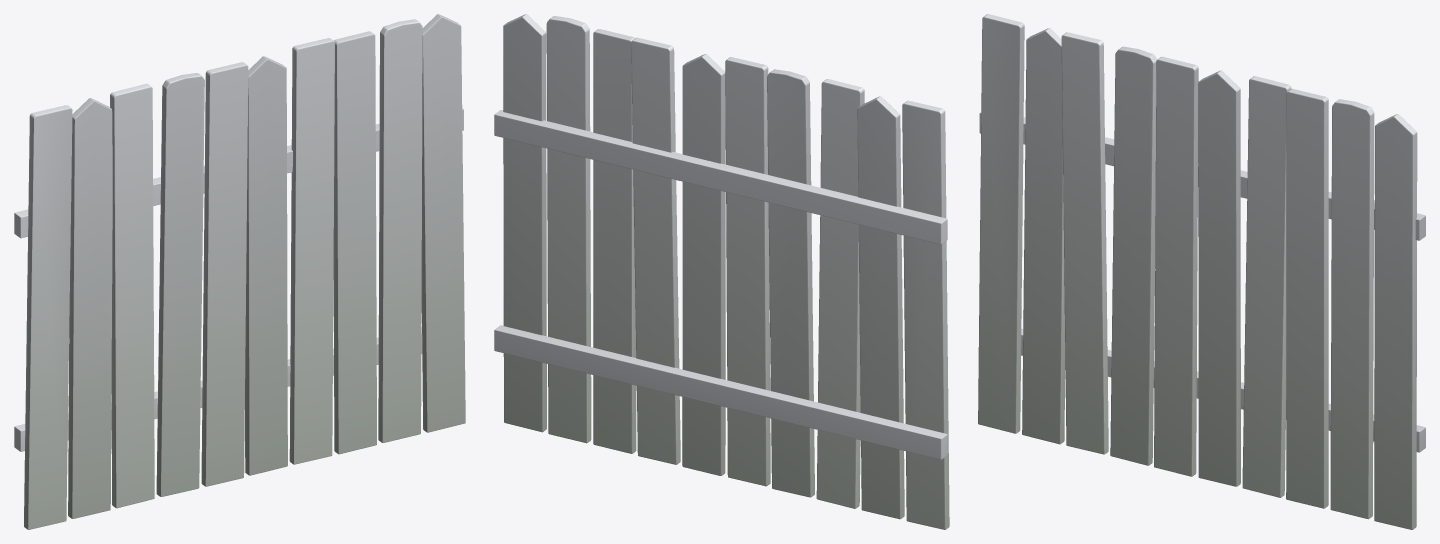
Rendered from prop-fence.glb.
The picture shows the model from 3 angles, left to right: view 1: azimuth 30°, elevation 25°; view 2: azimuth 150°, elevation 25°; view 3: azimuth 330°, elevation 25°; orthographic projection.
Parts seen in each view (by area): view 1: body; view 2: body; view 3: body.
Part boxes in pixels (bbox=[...]): body: bbox=[14, 14, 465, 529]; body: bbox=[494, 14, 949, 529]; body: bbox=[978, 14, 1425, 529].
Size of the model in its own units: 1 by 0.8947 by 0.0484.
Materials: 1 (1 with a texture image).
